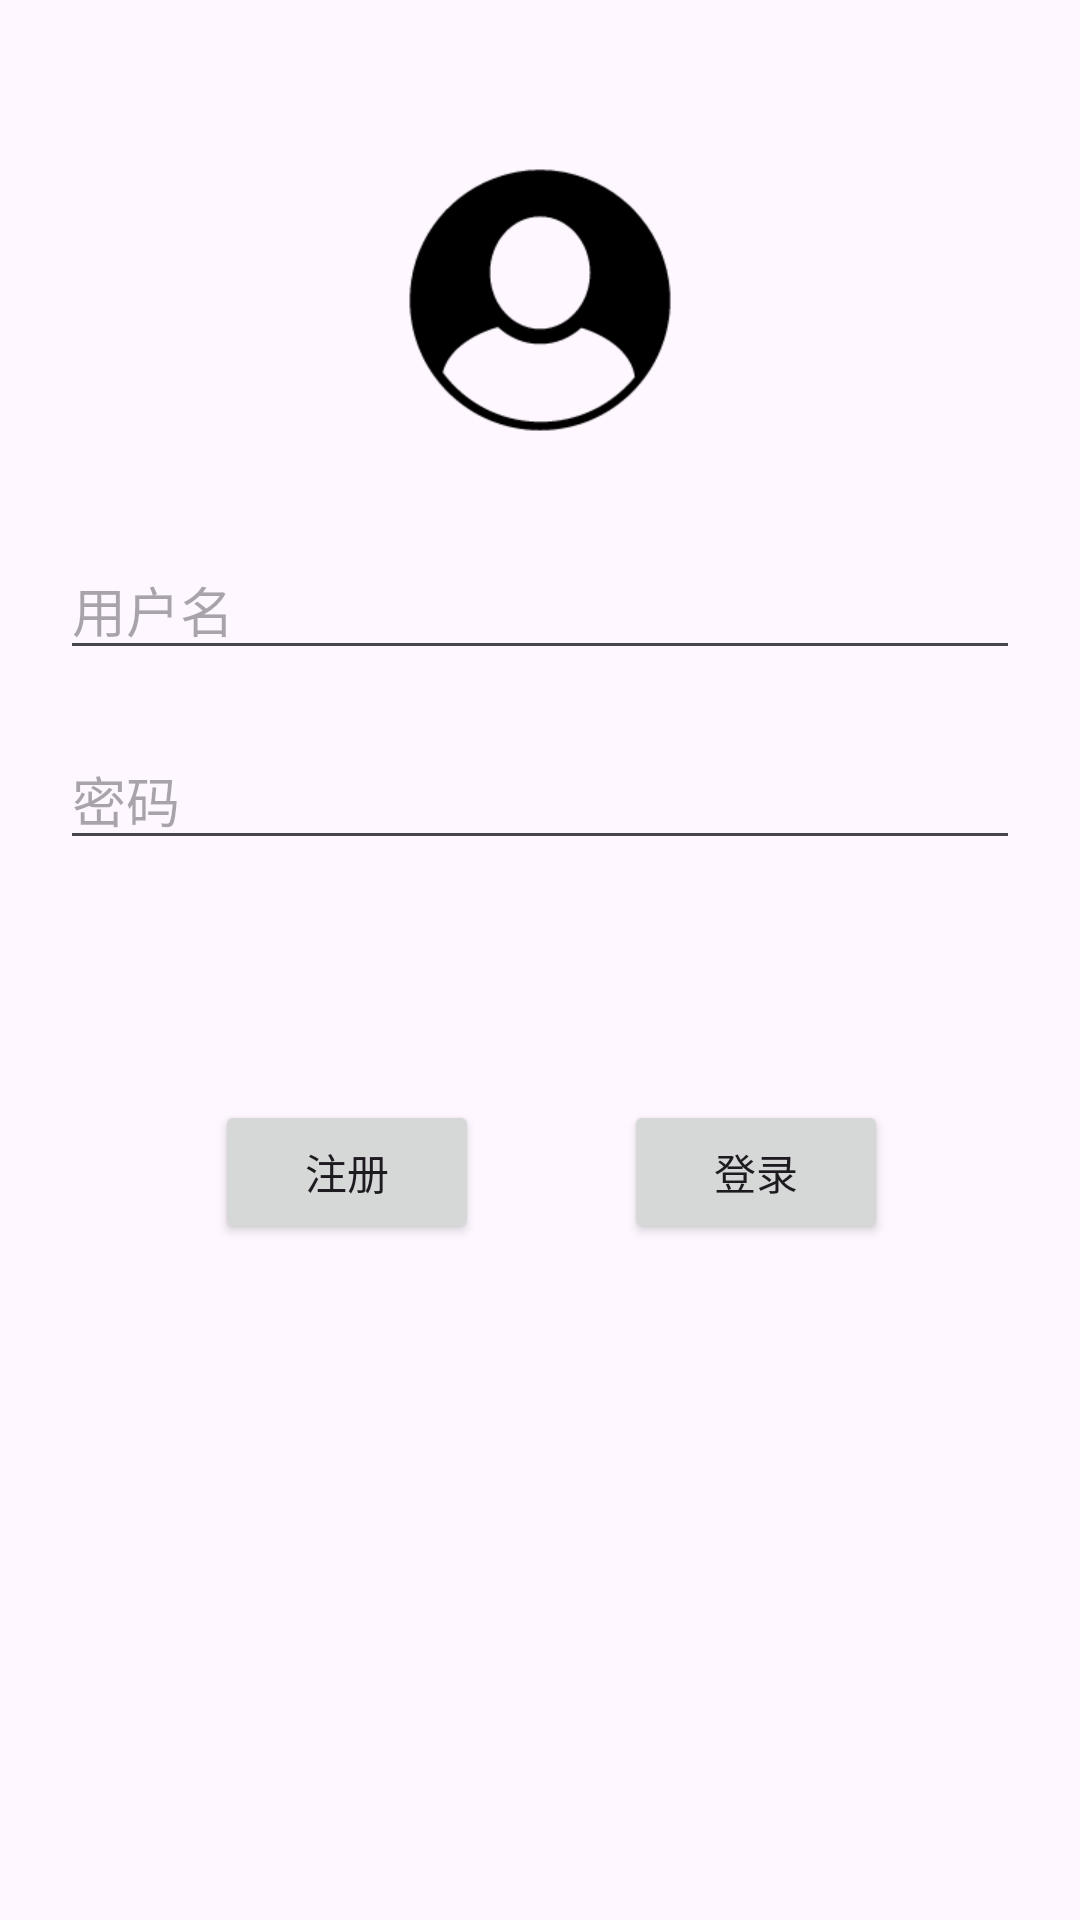

Where icons sit on this 1080 x 1920 app screen, as BBox(x1, y1, x2, y2):
touxiang: BBox(409, 169, 671, 431)
